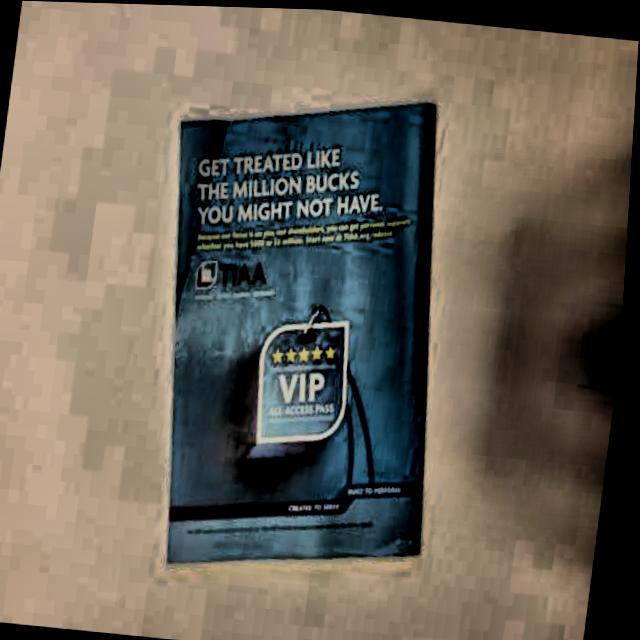Paper: (118, 65, 514, 606)
